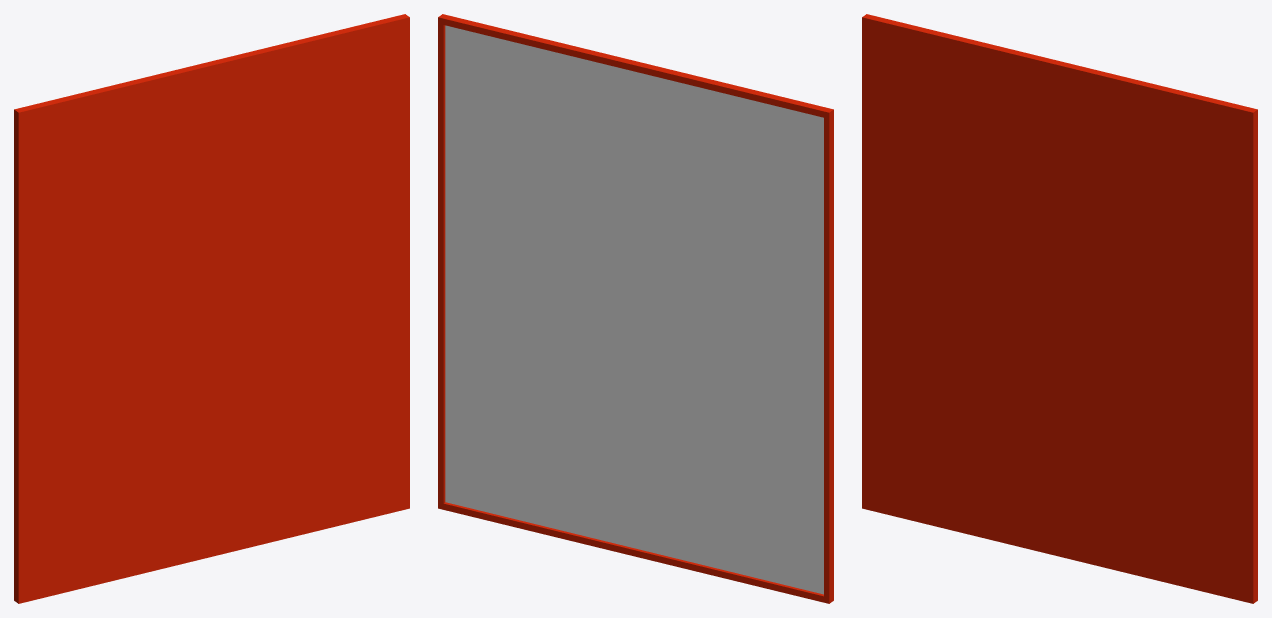
Rendered from cuadro_2.fbx.
3 renders of one model, left to right at view 1: azimuth 30°, elevation 25°; view 2: azimuth 150°, elevation 25°; view 3: azimuth 330°, elevation 25°, orthographic.
Parts seen in each view (by area): view 1: Cubo; view 2: Cubo; view 3: Cubo.
Part boxes in pixels (x1,y1,x2,y2): Cubo: [14, 14, 409, 603]; Cubo: [438, 14, 833, 603]; Cubo: [862, 14, 1257, 603].
Size of the model in its own units: 500 by 600 by 10.03.
